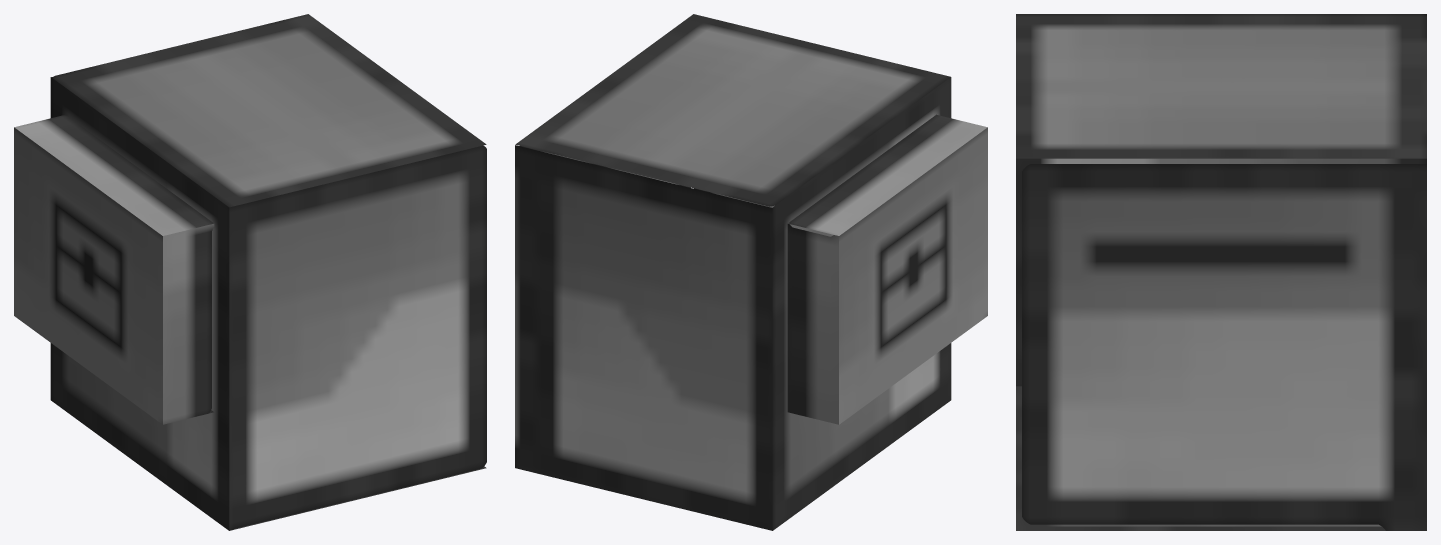
Rendered from turtle.dae.
3 renders of one model, left to right at view 1: azimuth 30°, elevation 25°; view 2: azimuth 150°, elevation 25°; view 3: azimuth 270°, elevation 25°, orthographic. The views are drawn at different scales.
Visible parts, largest first — view 1: Cube; view 2: Cube; view 3: Cube.
Boxes of the visible parts, x1,y1,x2,y2 form: Cube: [14, 14, 486, 530]; Cube: [515, 14, 987, 530]; Cube: [1016, 14, 1426, 530].
Bounding box in the file's own units: 2 × 2 × 2.
